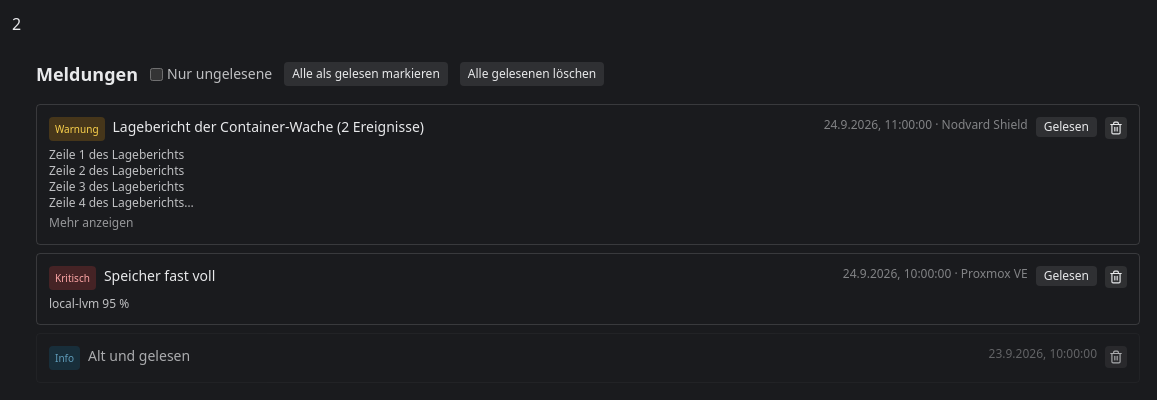
Test: NotificationsPage › löscht auch eine gelesene Meldung einzeln, ohne den Zähler zu ändern
Expected: the list item with test id "notification-n3" is shown, [36,333,1140,383]
Expected: the text with test id "unread-probe" reads "2", [12,13,21,35]
What coordinates should you click on to do the following:
click the button named "Meldung „Alt und gelesen“ löschen"
I would click on:
 (1116, 357)
Its box is [1105,346,1127,368].
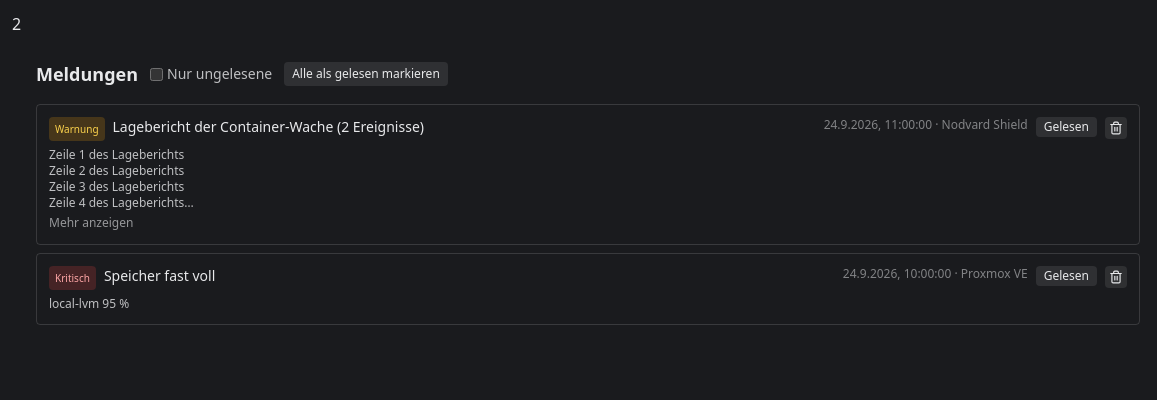
Expected: the text with test id "unread-probe" reads "2", [12,13,21,35]
Expected: the list item with test id "notification-n3" is gone
